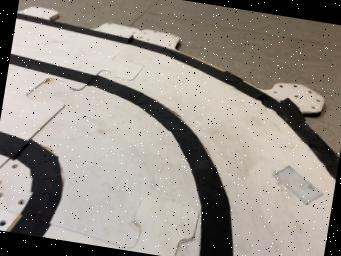street: (0, 12, 338, 256), (0, 12, 338, 256), (0, 12, 338, 256)
